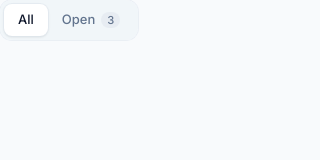
Test: Segmented › exposes a radio group and switches the selection on click
Expected: the element named "Show" is shown, 0,0 -> 138,40
Expected: the radio button labelled "All" is checked, 4,4 -> 48,36
Click the radio button labelled "Open 3" at (91, 20), box 48,4 -> 134,36
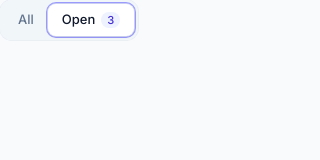
Expected: the radio button labelled "Open 3" is checked, 48,4 -> 134,36
Expected: the radio button labelled "All" is not checked, 4,4 -> 48,36
